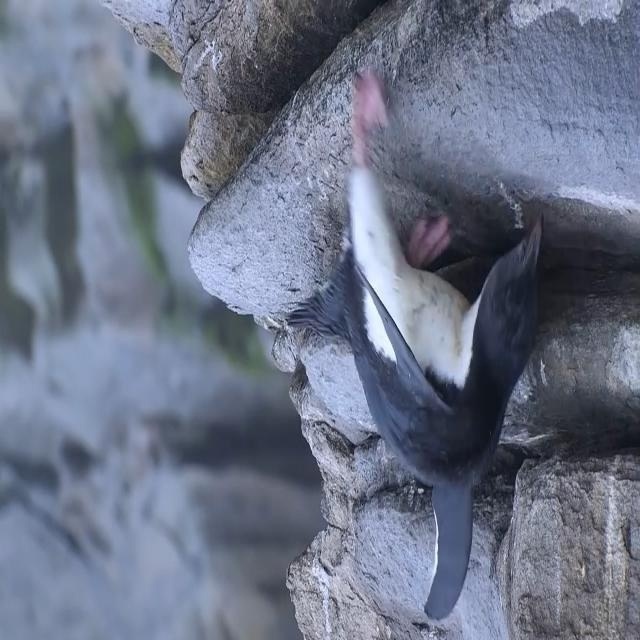penguin: (286, 60, 548, 622)
